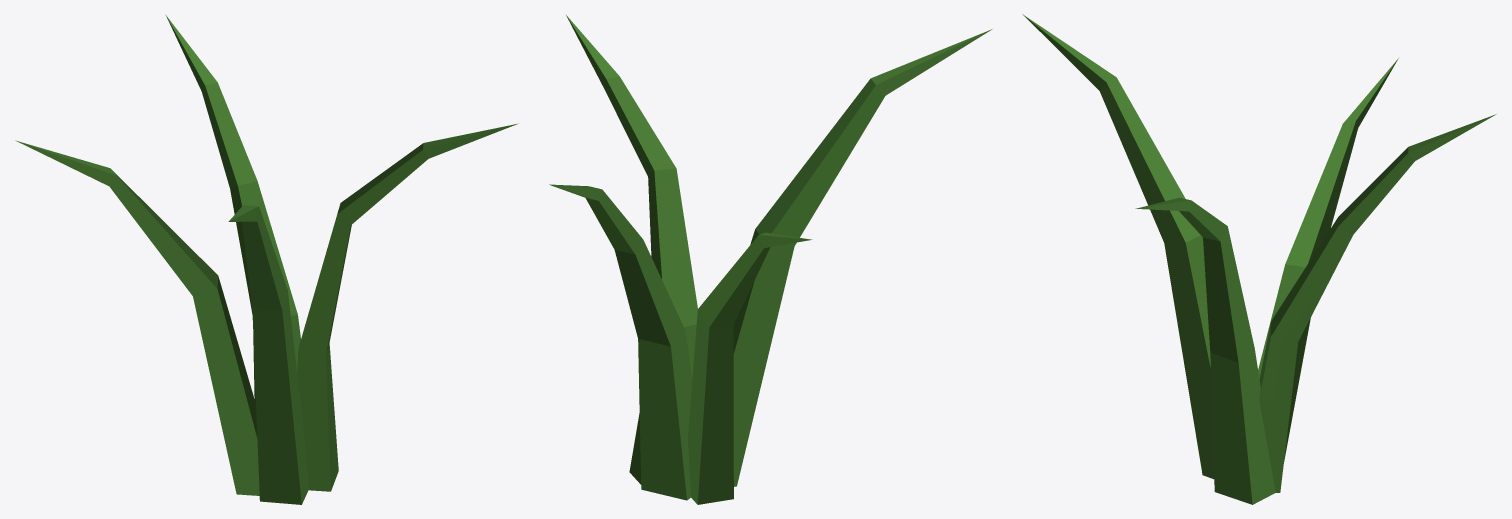
Rendered from GrassFinalModel.fbx.
The picture shows the model from 3 angles, left to right: view 1: azimuth 30°, elevation 25°; view 2: azimuth 150°, elevation 25°; view 3: azimuth 270°, elevation 25°; orthographic projection. The views are drawn at different scales.
Parts seen in each view (by area): view 1: GrassFinalModel; view 2: GrassFinalModel; view 3: GrassFinalModel.
Part boxes in pixels (bbox=[...]): GrassFinalModel: bbox=[15, 14, 517, 504]; GrassFinalModel: bbox=[549, 15, 992, 504]; GrassFinalModel: bbox=[1022, 14, 1496, 504].
Size of the model in its own units: 14.64 by 14.78 by 16.67.
